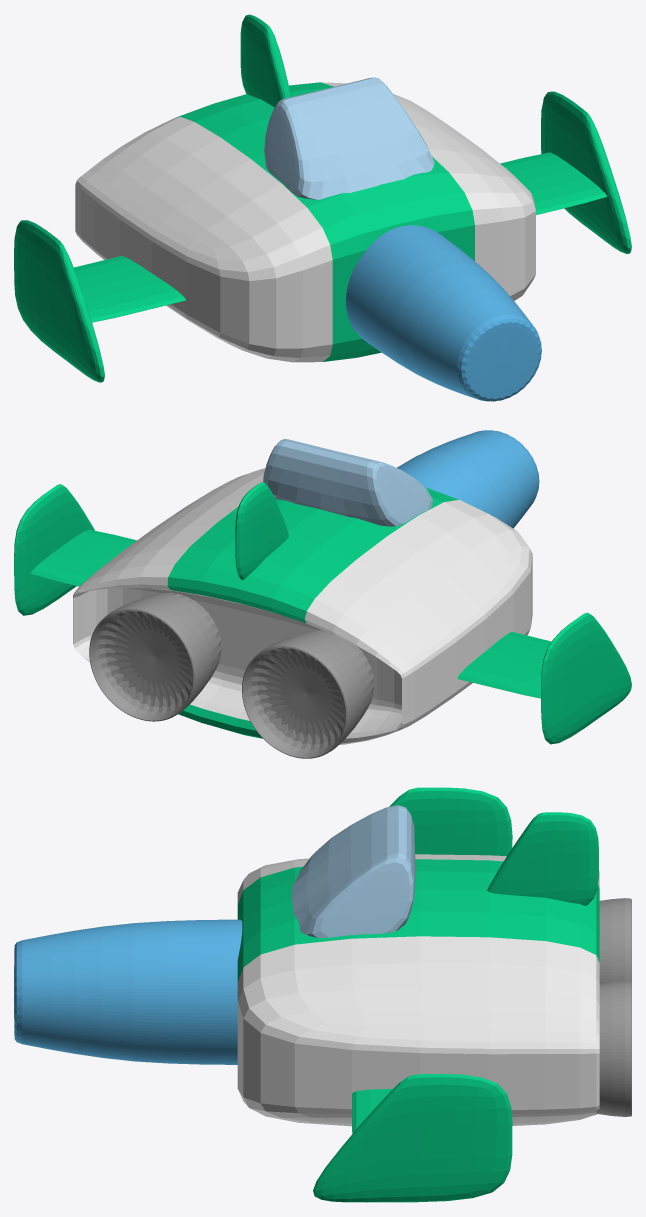
Rendered from space-08A7.fbx.
3 renders of one model, top to bottom at view 1: azimuth 30°, elevation 25°; view 2: azimuth 150°, elevation 25°; view 3: azimuth 270°, elevation 25°, orthographic. The views are drawn at different scales.
Parts seen in each view (by area): view 1: body-space; view 2: body-space; view 3: body-space.
Part boxes in pixels (left/top/right/bottom): body-space: left=14, top=14, right=631, bottom=401; body-space: left=14, top=430, right=631, bottom=758; body-space: left=14, top=787, right=631, bottom=1202.
Bounding box in the file's own units: 508 × 254 × 569.
